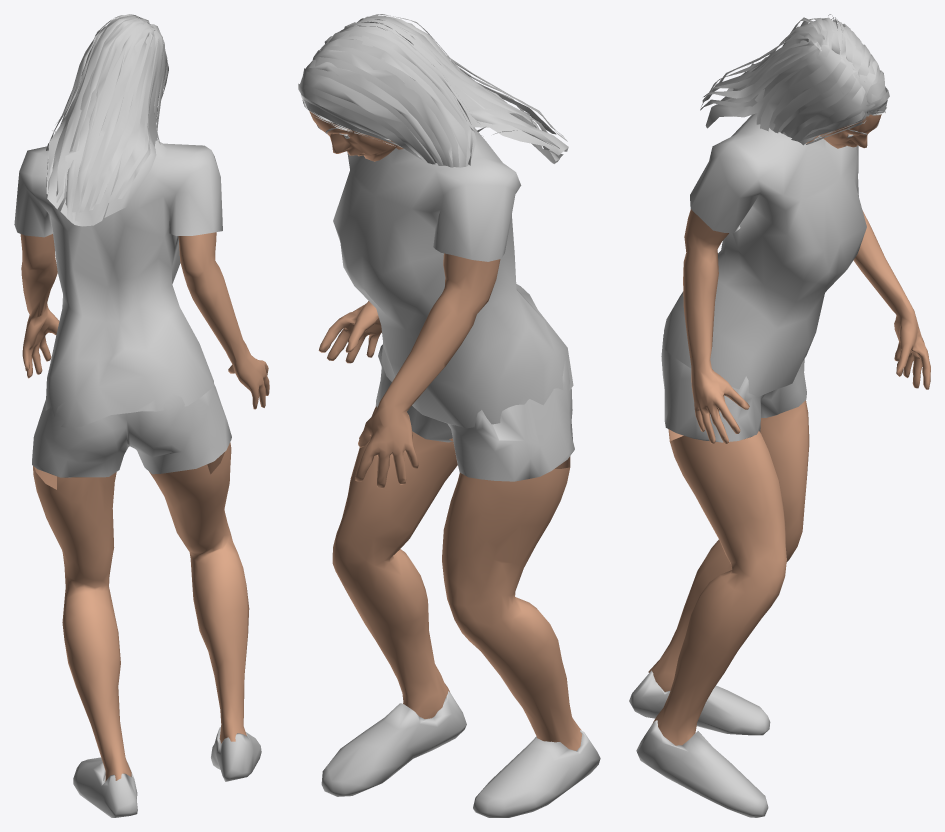
Rendered from player2att_000011.obj.
3 views of the same model, side by side, from view 1: azimuth 30°, elevation 25°; view 2: azimuth 150°, elevation 25°; view 3: azimuth 270°, elevation 25° (orthographic). The views are drawn at different scales.
Visible parts, largest first — view 1: player2:Body, player2:tshirt02, player2:fhair01, player2:short01, player2:shoes02; view 2: player2:Body, player2:tshirt02, player2:fhair01, player2:shoes02, player2:short01; view 3: player2:Body, player2:tshirt02, player2:fhair01, player2:shoes02, player2:short01.
Boxes of the visible parts, box(x1,y1,x2,y2) form: player2:Body: box(20, 232, 269, 781); player2:tshirt02: box(14, 140, 222, 428); player2:fhair01: box(46, 14, 168, 226); player2:short01: box(32, 384, 231, 477); player2:shoes02: box(73, 727, 261, 817); player2:Body: box(309, 111, 581, 750); player2:tshirt02: box(333, 127, 573, 428); player2:fhair01: box(298, 14, 568, 167); player2:shoes02: box(321, 691, 600, 817); player2:short01: box(375, 344, 574, 481); player2:Body: box(648, 114, 930, 745); player2:tshirt02: box(664, 113, 866, 396); player2:fhair01: box(700, 14, 889, 145); player2:shoes02: box(629, 670, 770, 817); player2:short01: box(661, 328, 806, 442).
Bounding box in the file's own units: 5.17 × 16.12 × 5.81.
